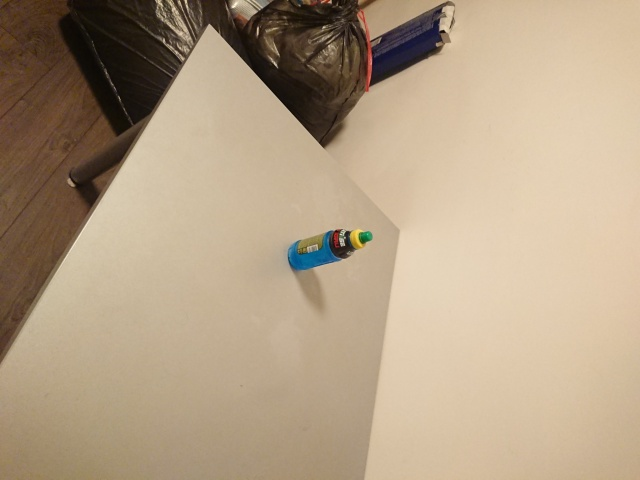Vindi Iso Sport Forest Strawberries 500mL: (286, 227, 374, 271)
